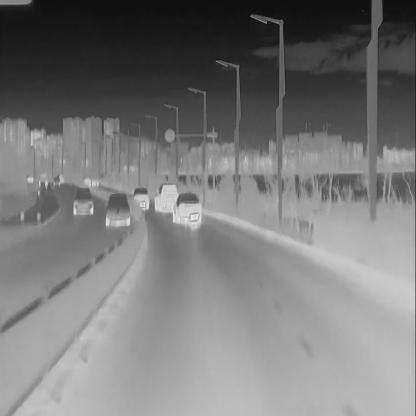car: (171, 191, 203, 223), (104, 191, 132, 227), (155, 182, 180, 212), (71, 186, 95, 216), (131, 184, 151, 210), (51, 175, 61, 187)
